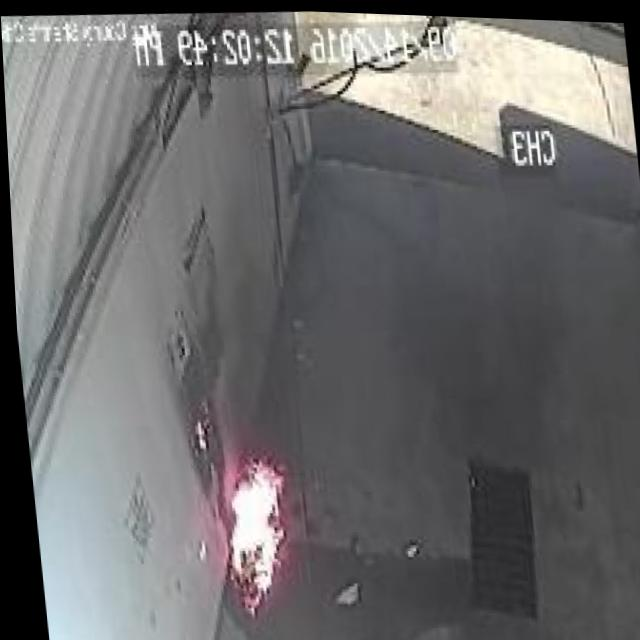fire: (187, 408, 304, 633)
